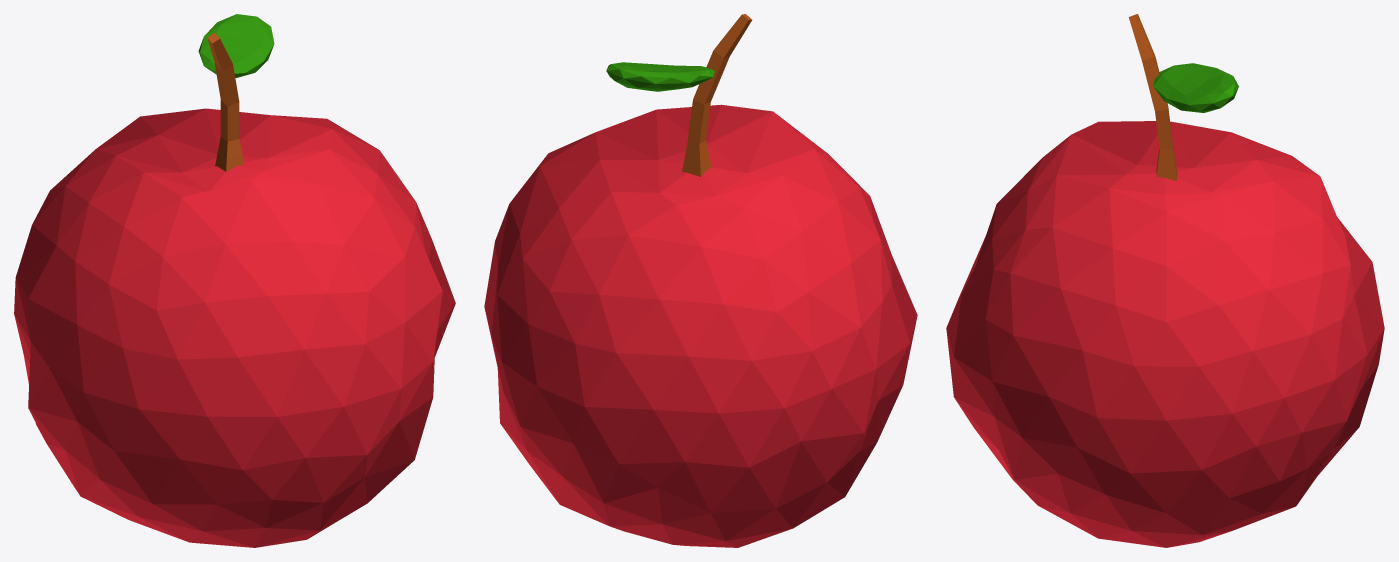
Rendered from Apple.glb.
3 views of the same model, side by side, from view 1: azimuth 30°, elevation 25°; view 2: azimuth 150°, elevation 25°; view 3: azimuth 270°, elevation 25° (orthographic). The views are drawn at different scales.
Visible parts, largest first — view 1: Apple, Leaf, Stem; view 2: Apple, Stem, Leaf; view 3: Apple, Leaf, Stem.
Part boxes in pixels (x1,y1,x2,y2): Apple: (14, 108, 455, 547); Leaf: (198, 14, 274, 77); Stem: (207, 33, 244, 171); Apple: (484, 104, 917, 547); Stem: (682, 14, 752, 176); Leaf: (606, 62, 714, 91); Apple: (946, 121, 1384, 547); Leaf: (1153, 63, 1238, 112); Stem: (1128, 14, 1177, 180).
Bounding box in the file's own units: 1.91 × 2.47 × 1.96.
